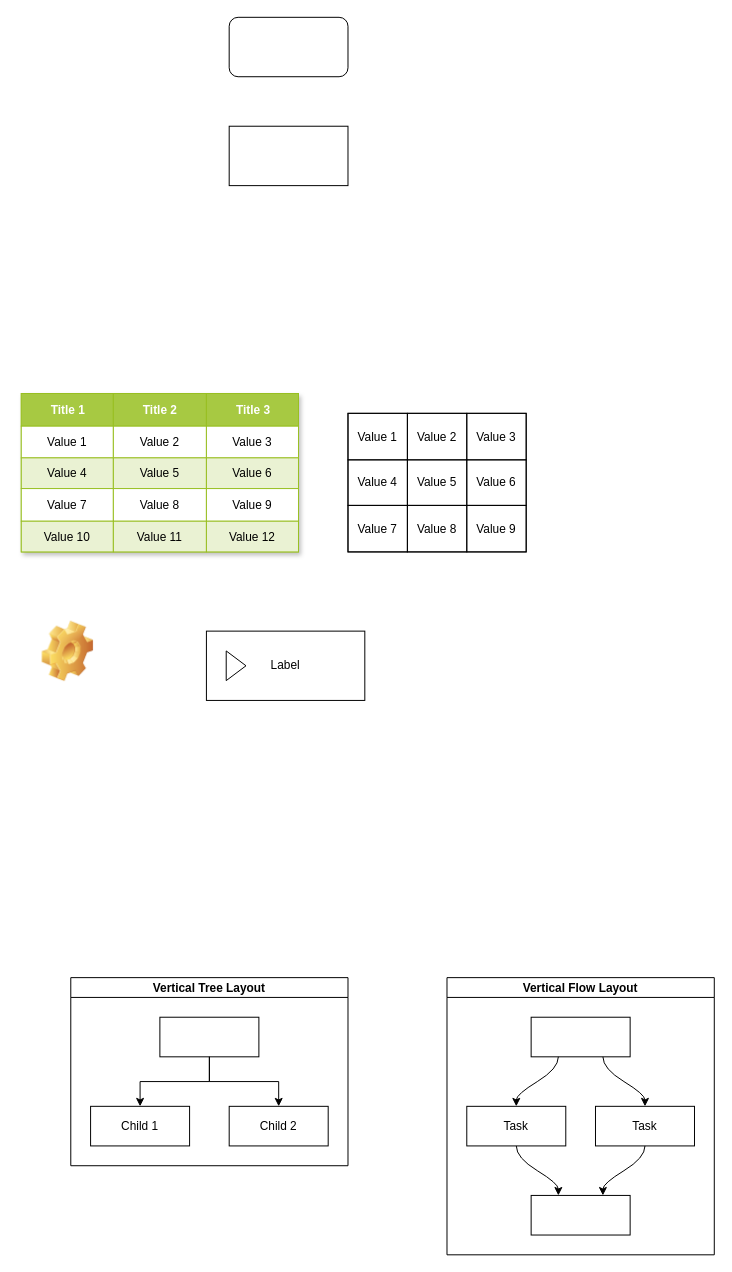
This 732x1272 diagram has some shape labels left out. The centre of each missing label's shape, as x and y in pixels:
"End" goes at pixel 580 1214.
"Root" goes at pixel 209 1036.
"Start" goes at pixel 580 1036.
